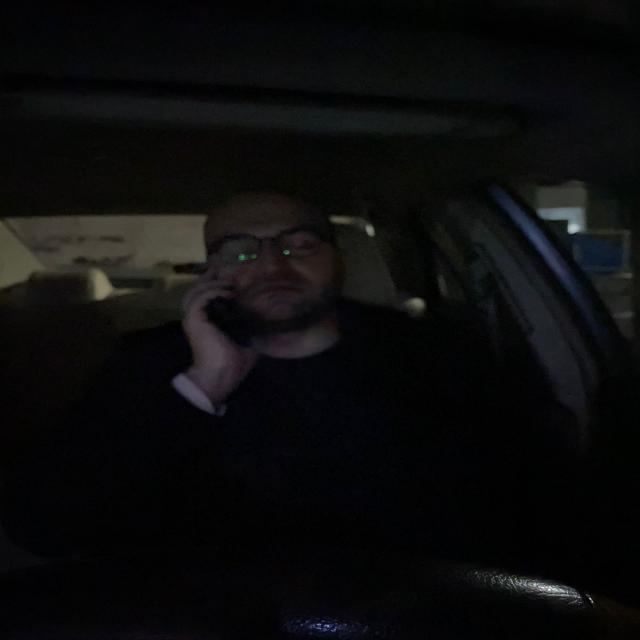mobile: (196, 267, 261, 364)
person: (194, 198, 347, 335)
